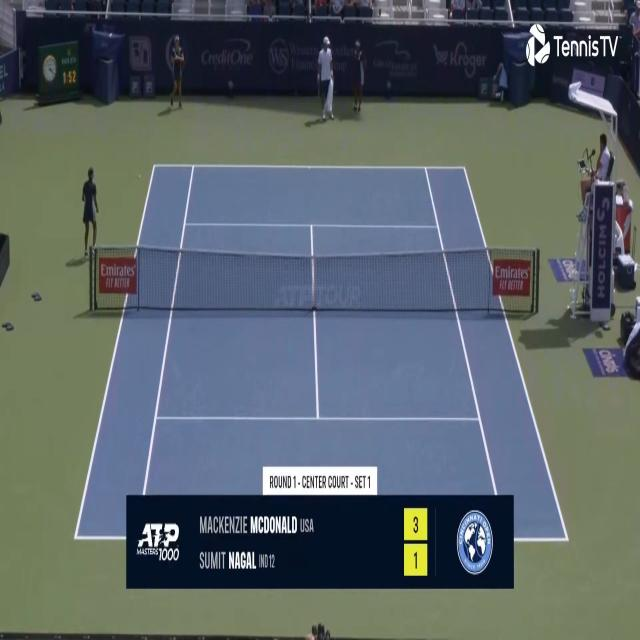tennis-player: (315, 33, 336, 122)
